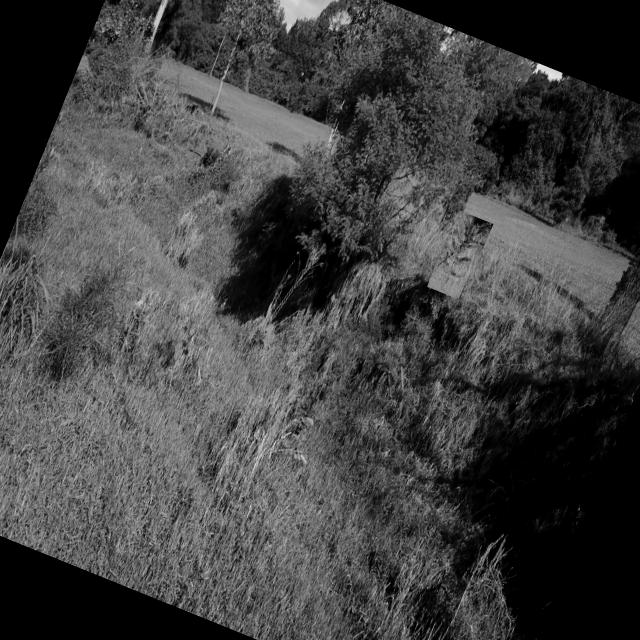Mysore-Thorn-Weed: (426, 209, 493, 301)
